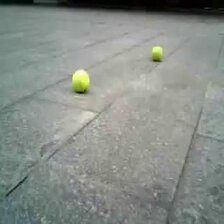tennis: (73, 69, 89, 91), (152, 47, 163, 59)
